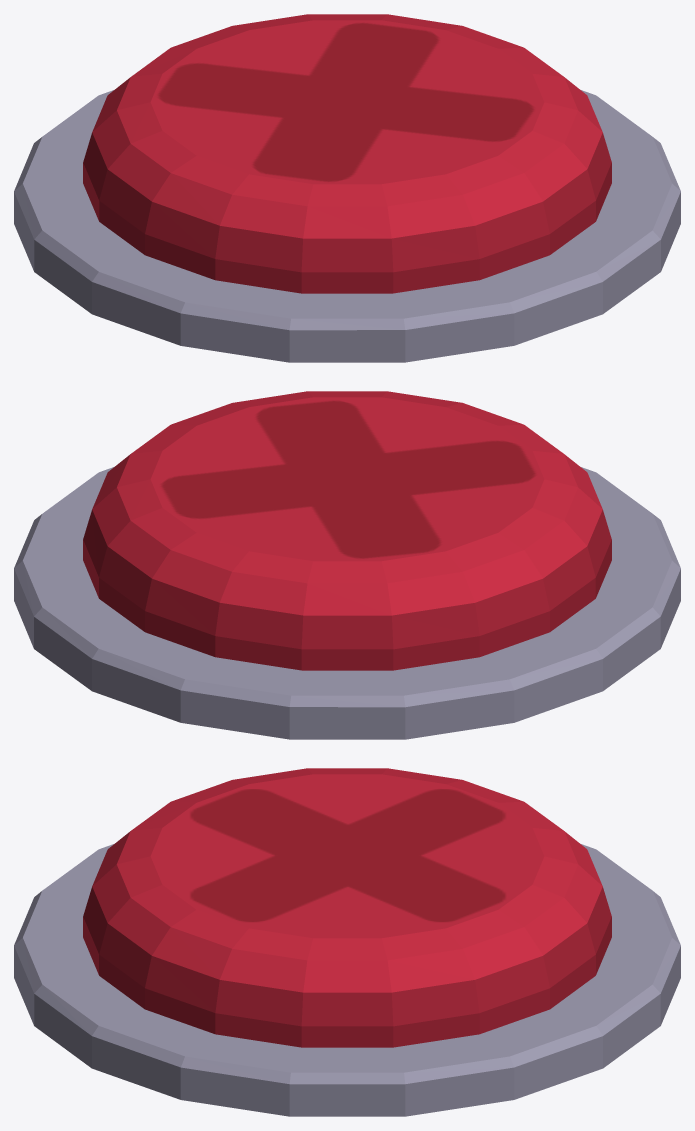
The model's file is Hurdle14.fbx.
The picture shows the model from 3 angles, top to bottom: view 1: azimuth 30°, elevation 25°; view 2: azimuth 150°, elevation 25°; view 3: azimuth 270°, elevation 25°; orthographic projection.
Parts seen in each view (by area): view 1: Hurdle14; view 2: Hurdle14; view 3: Hurdle14.
Boxes of the visible parts, x1,y1,x2,y2 form: Hurdle14: (14, 14, 680, 362); Hurdle14: (14, 391, 680, 739); Hurdle14: (14, 768, 680, 1116).
Size of the model in its own units: 1.03 by 0.2099 by 1.04.
Materials: 1 (1 with a texture image).
